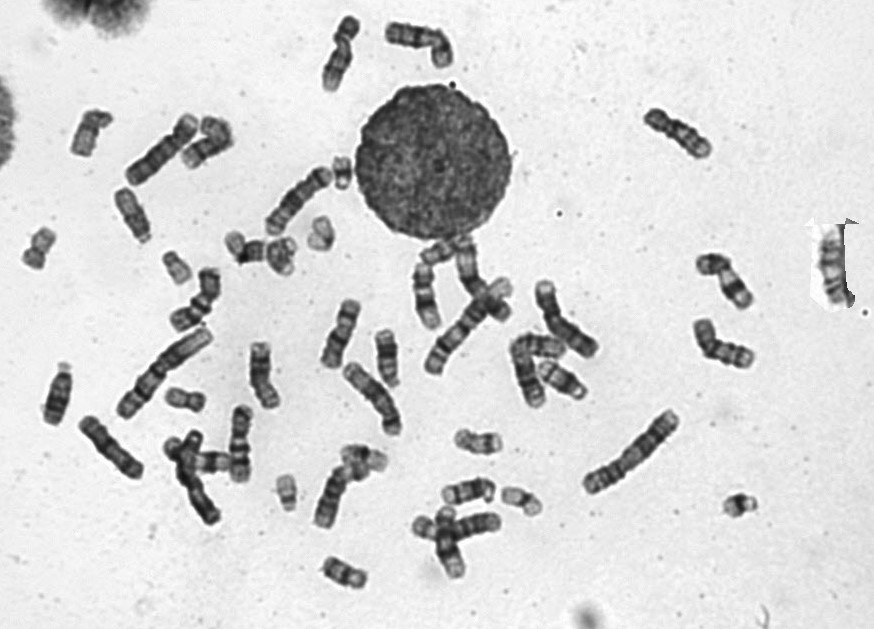chromosomes: (108, 319, 221, 426), (578, 395, 687, 502), (421, 264, 518, 379), (500, 325, 592, 422), (528, 272, 618, 364), (631, 93, 733, 172), (308, 441, 393, 535), (808, 216, 874, 327), (170, 421, 232, 534), (119, 103, 202, 187), (70, 407, 155, 489), (453, 226, 519, 330), (257, 159, 333, 245), (332, 363, 412, 440), (672, 309, 764, 375), (401, 500, 517, 550), (172, 103, 245, 180), (695, 241, 764, 317), (381, 12, 461, 74), (313, 291, 371, 375), (313, 6, 366, 97), (164, 259, 225, 335), (101, 178, 161, 253), (244, 332, 290, 425), (432, 493, 477, 586), (154, 432, 235, 481), (534, 352, 601, 411), (225, 397, 264, 493), (34, 350, 78, 434), (309, 545, 376, 599), (67, 98, 118, 167), (17, 213, 68, 280), (406, 257, 450, 333), (436, 465, 505, 512), (449, 420, 516, 463), (258, 462, 310, 515), (373, 321, 407, 401), (213, 226, 270, 273), (259, 233, 312, 283), (303, 215, 356, 259), (714, 488, 769, 528), (326, 151, 368, 203), (160, 378, 213, 419), (499, 476, 547, 520), (158, 241, 196, 292), (336, 443, 391, 478)
